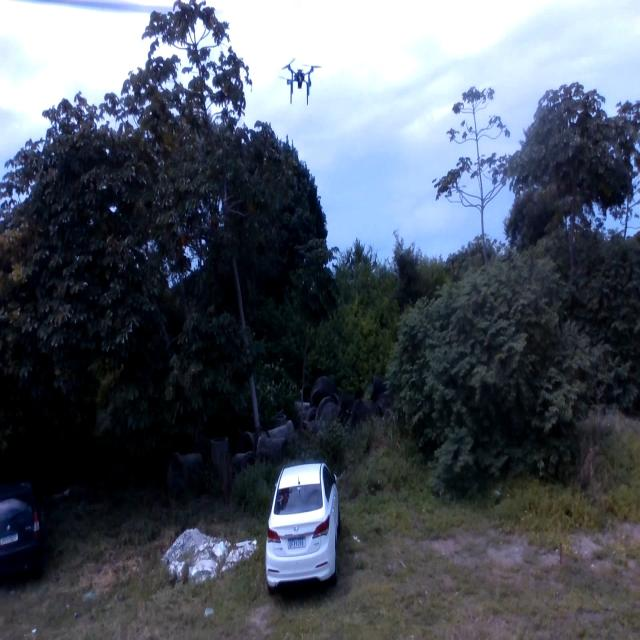-uav-: (276, 49, 325, 110)
